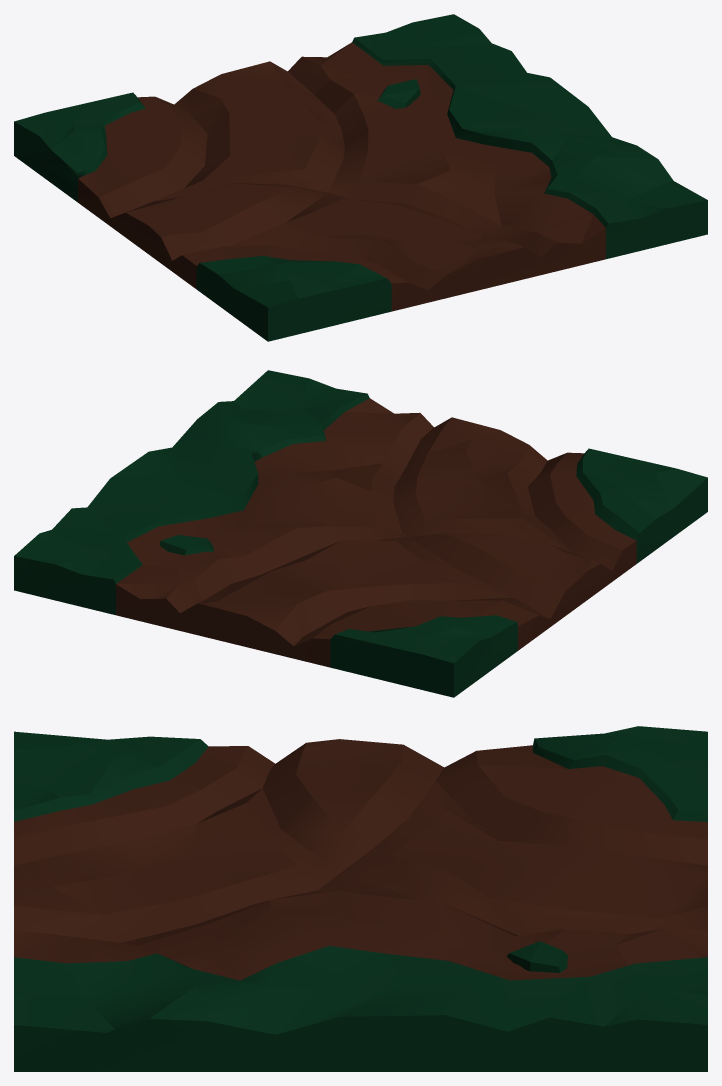
The model's file is Ground_Road_Crossroads_L.fbx.
The picture shows the model from 3 angles, top to bottom: view 1: azimuth 30°, elevation 25°; view 2: azimuth 150°, elevation 25°; view 3: azimuth 270°, elevation 25°; orthographic projection. The views are drawn at different scales.
Parts seen in each view (by area): view 1: Ground_Road_Crossroads_L; view 2: Ground_Road_Crossroads_L; view 3: Ground_Road_Crossroads_L.
Part boxes in pixels (box(x1,y1,x2,y2)): Ground_Road_Crossroads_L: box(14, 14, 707, 341); Ground_Road_Crossroads_L: box(14, 370, 707, 697); Ground_Road_Crossroads_L: box(14, 726, 707, 1071).
Size of the model in its own units: 147 by 13.39 by 147.
